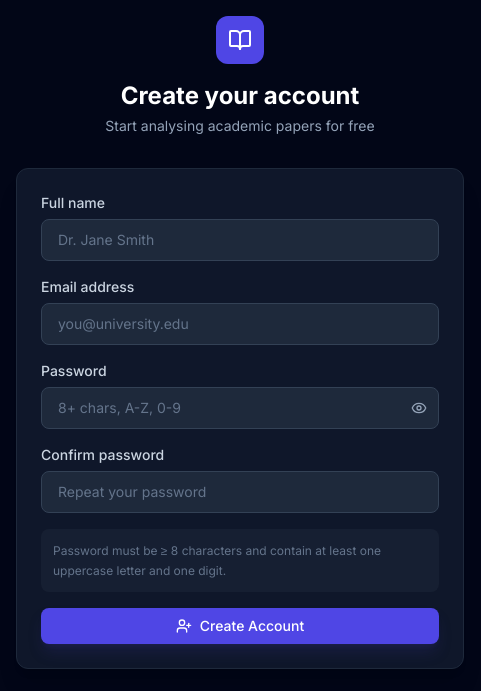
RegisterPage › flags password mismatch when confirm password does not match
Step 1. Type "Dr. Alice" into the field labelled "Full name" → coordinates (240, 240), box [41,219,439,261]
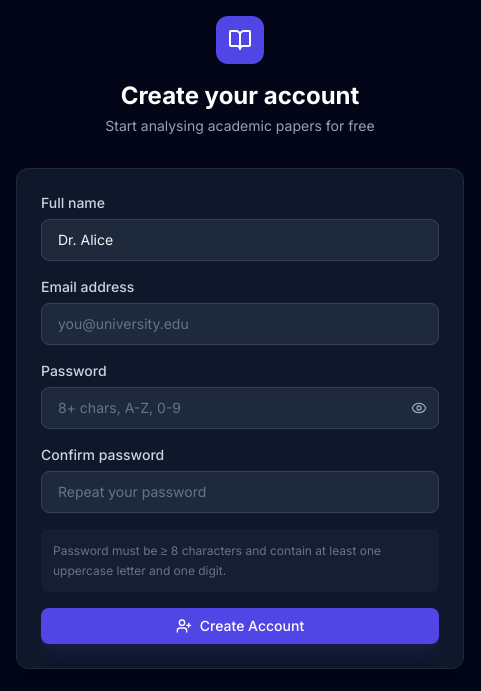
Step 2. Type "alice@example.com" into the field labelled "Email address" → coordinates (240, 324), box [41,303,439,345]
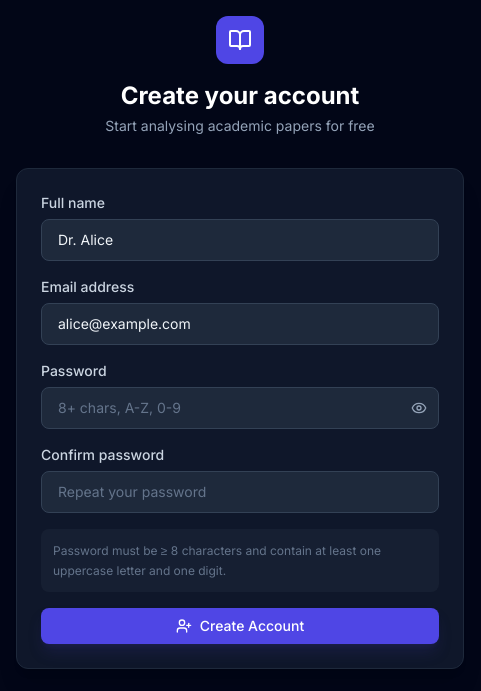
Step 3. Type "Password123" into the password field labelled "Password" → coordinates (240, 408), box [41,387,439,429]
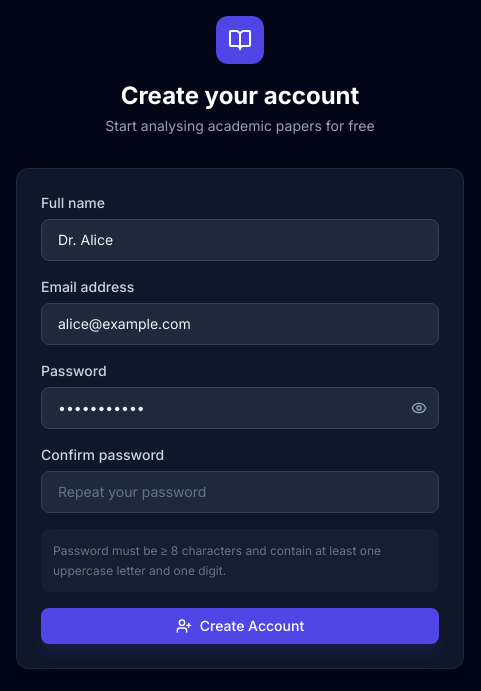
Step 4. Type "DifferentPassword123" into the password field labelled "Confirm password" → coordinates (240, 492), box [41,471,439,513]
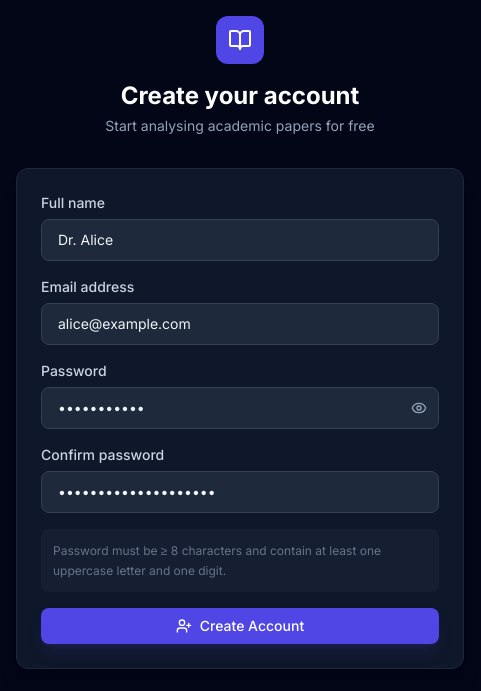
Step 5. Click the button "Create Account" → coordinates (240, 626), box [41,608,439,644]
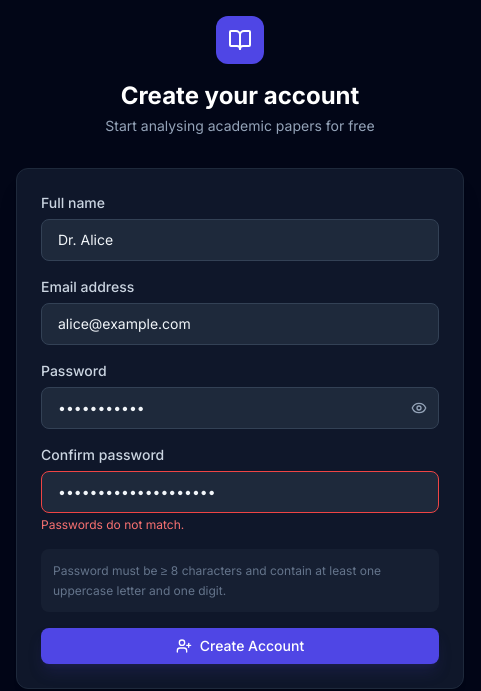
Result: the text "Passwords do not match." is shown at [41,517,184,532]
